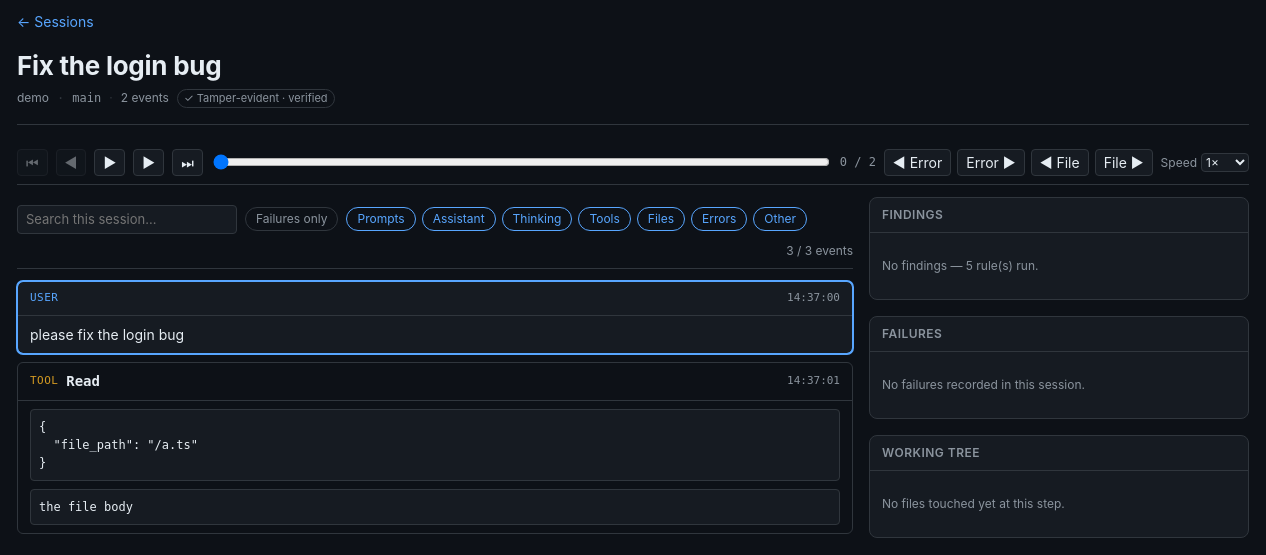
Test: SessionDetailPage › filters the timeline by text search
Expected: the text "please fix the login bug" is shown, [30,326,184,342]
Expected: the text "Read" is shown, [66,370,100,392]
In the search field: (127,219) [17,204,237,234], type "login"
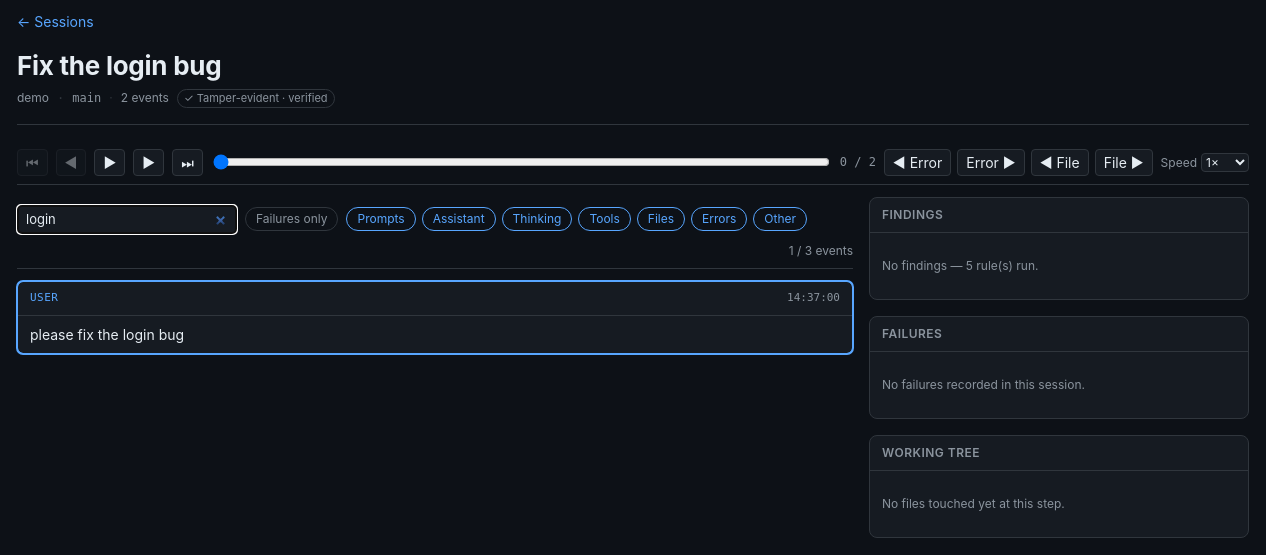
Expected: the text "please fix the login bug" is shown, [30,326,184,342]
Expected: the text "Read" is gone
Expected: the text "1 / 3 events" is shown, [789,242,853,260]
